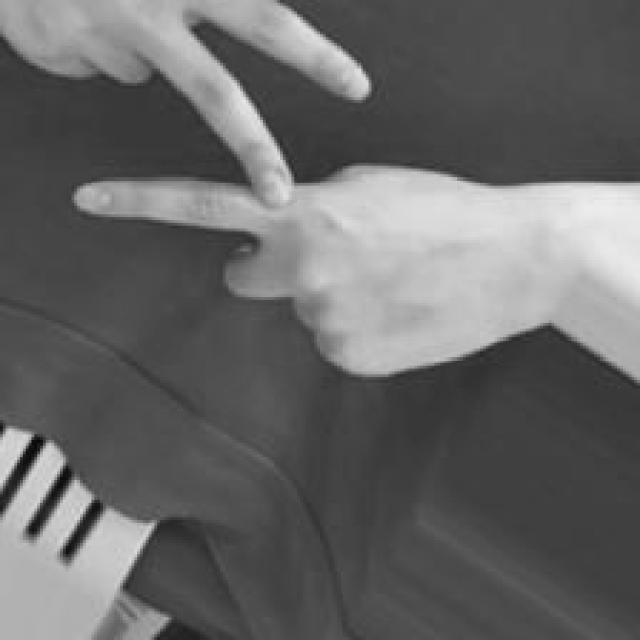Z: (1, 1, 640, 384)
